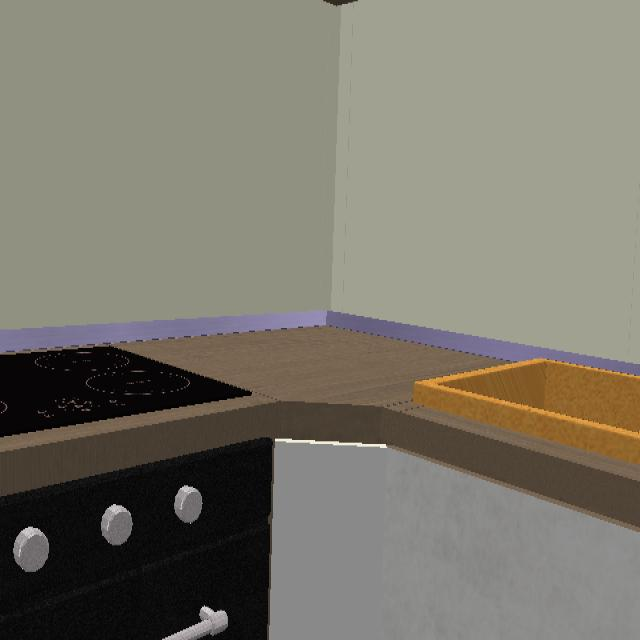countertop: (0, 325, 640, 529)
oven: (0, 440, 274, 640)
sink: (411, 359, 640, 473)
stove: (0, 347, 236, 437)
